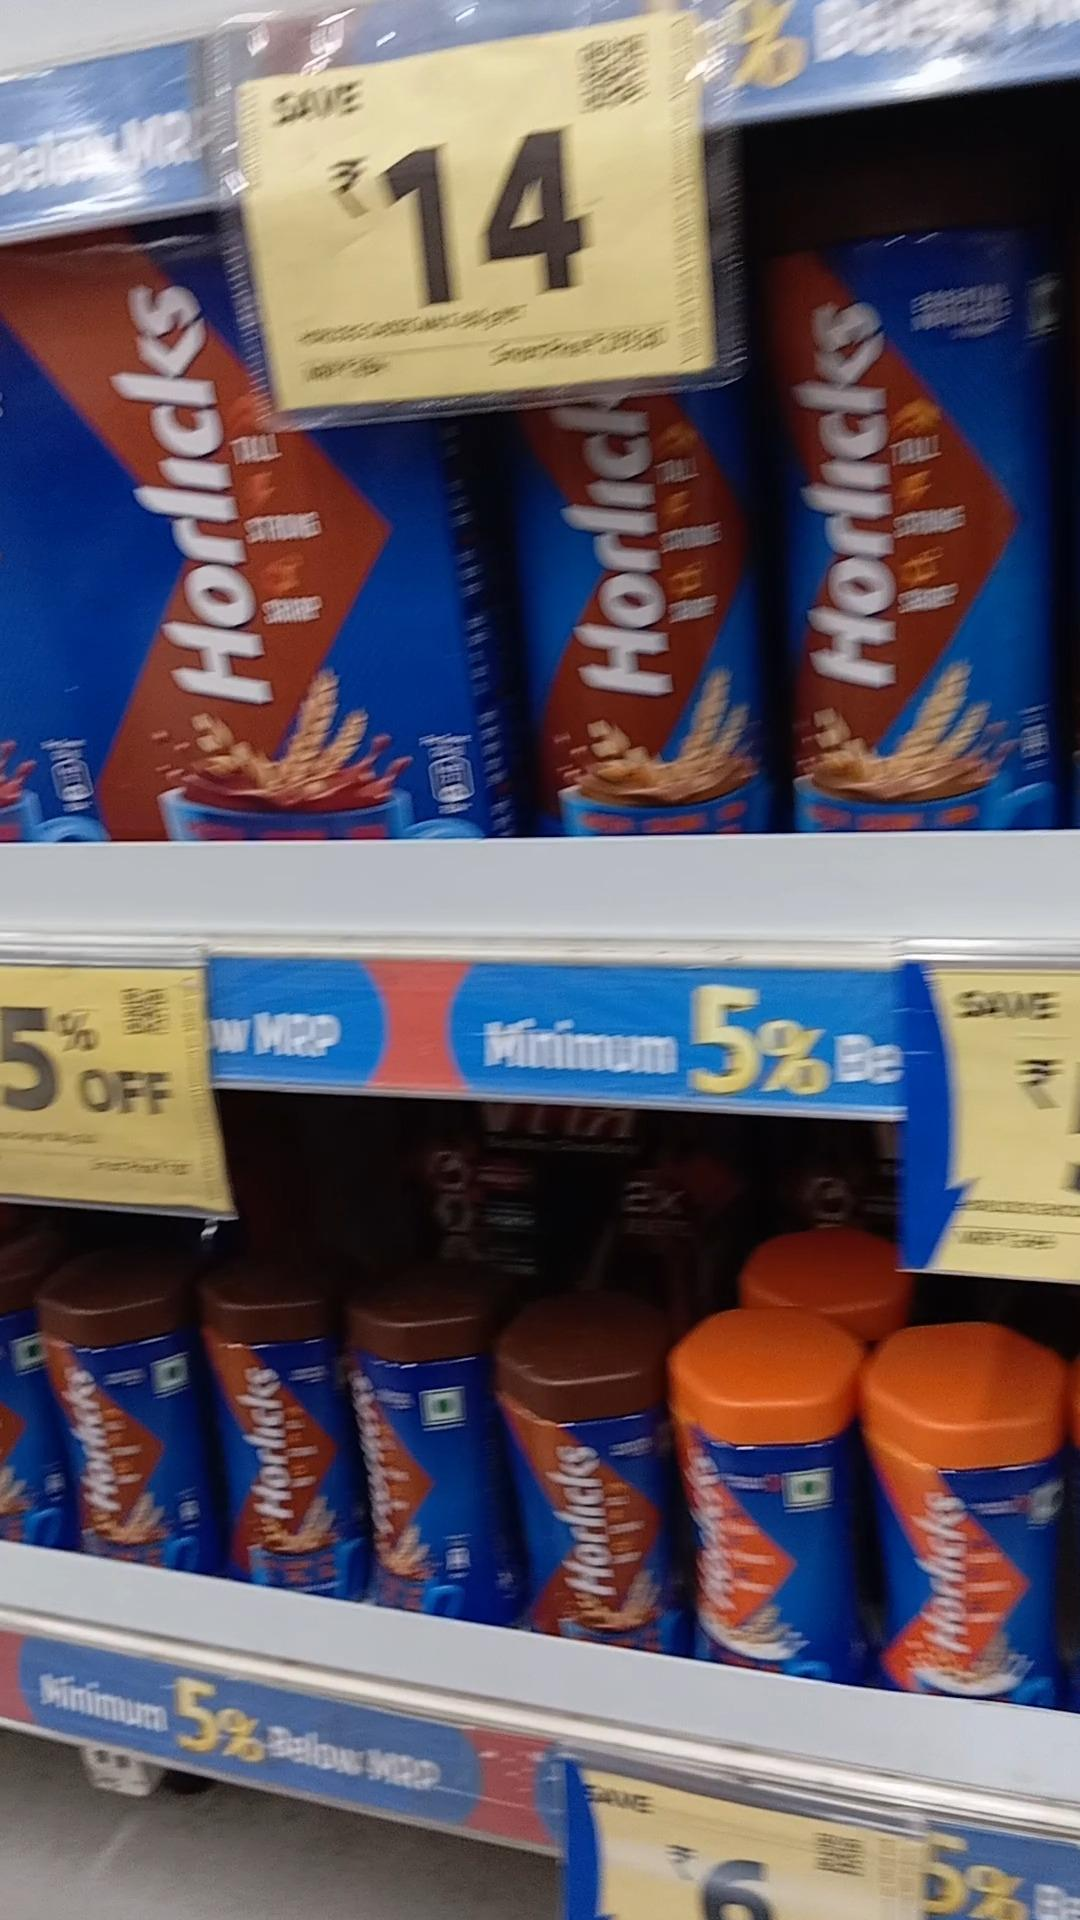HORLICK_CHOCOLATE_200_G_JAR: (353, 1312, 502, 1611), (512, 1364, 670, 1636), (208, 1296, 347, 1590), (50, 1288, 195, 1555)
HORLICK_CHOCOLATE_500_G_JAR: (778, 121, 1062, 827), (512, 390, 750, 827)
HORLICK_CLASSIC_MALT_200_G_JAR: (877, 1332, 1077, 1701), (678, 1342, 862, 1681)
